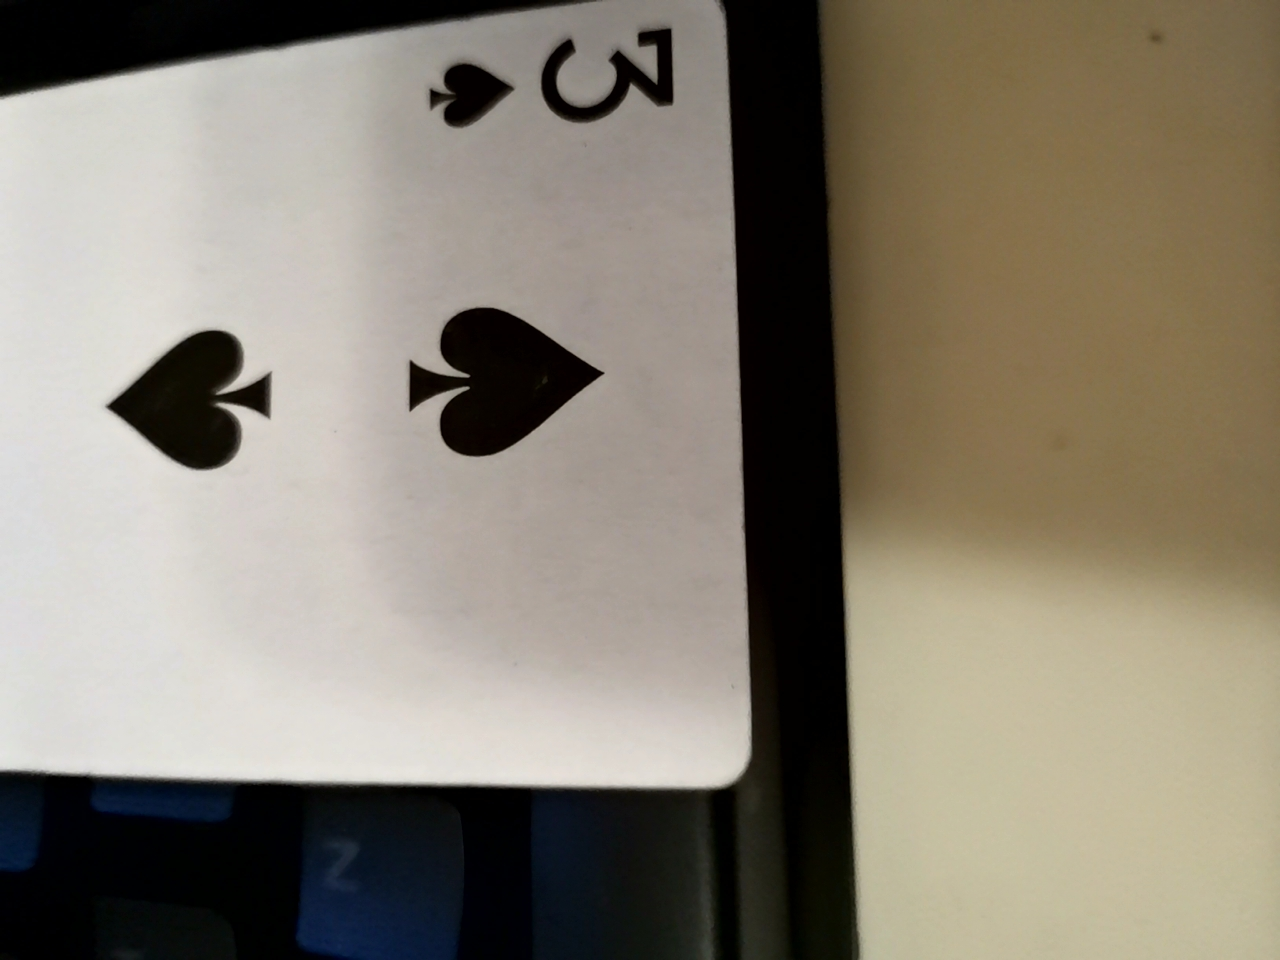ht 3: (10, 4, 729, 793)
